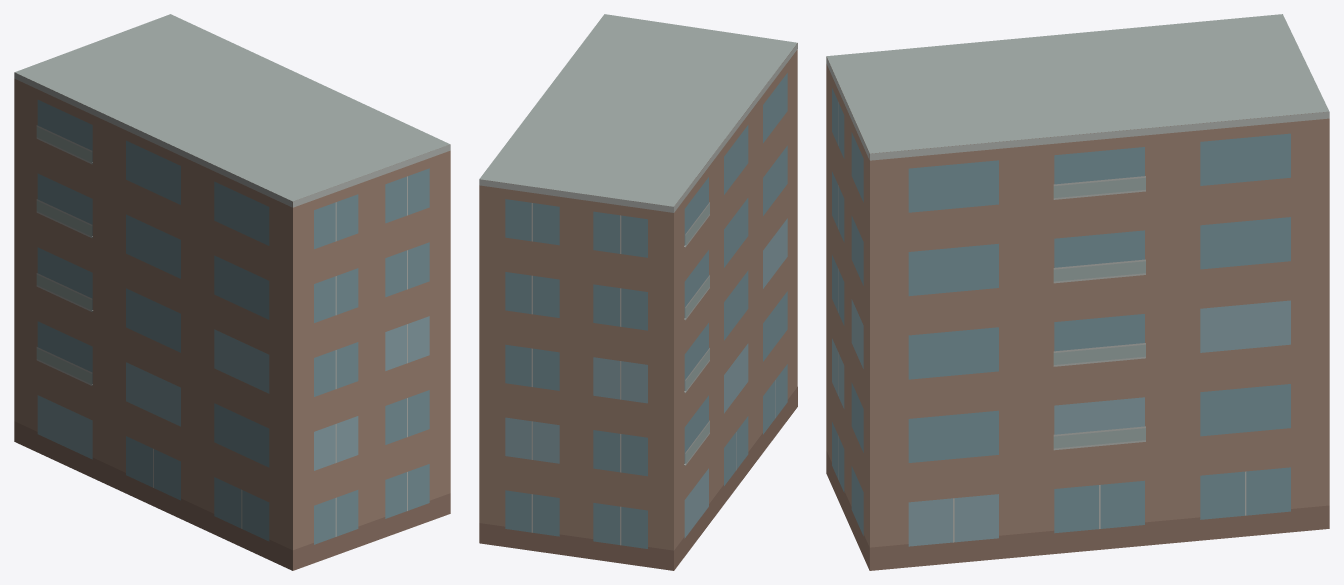
File: survey-upis-32703950.glb
The picture shows the model from 3 angles, left to right: view 1: azimuth 30°, elevation 25°; view 2: azimuth 150°, elevation 25°; view 3: azimuth 270°, elevation 25°; orthographic projection. The views are drawn at different scales.
Parts seen in each view (by area): view 1: survey-upis-32703950.tmp; view 2: survey-upis-32703950.tmp; view 3: survey-upis-32703950.tmp.
Part boxes in pixels (left/top/right/bottom): survey-upis-32703950.tmp: left=14, top=14, right=450, bottom=570; survey-upis-32703950.tmp: left=479, top=14, right=797, bottom=570; survey-upis-32703950.tmp: left=826, top=14, right=1329, bottom=570.
Bounding box in the file's own units: 10.34 × 14.4 × 15.75.
